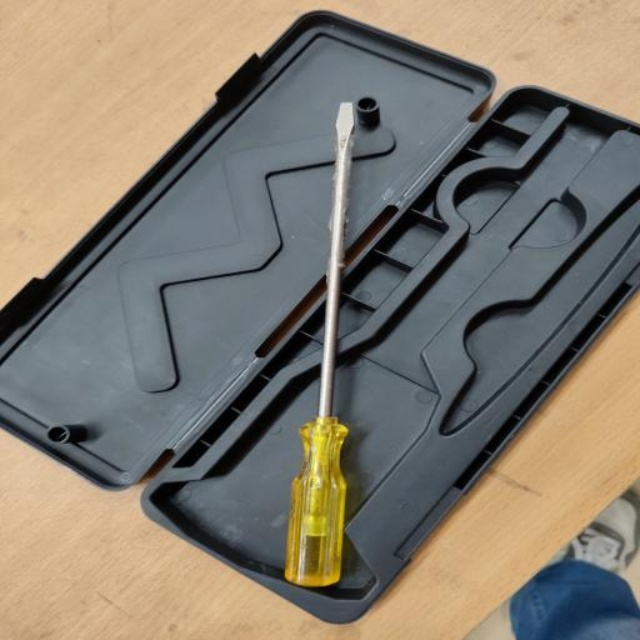screwdriver: (279, 92, 371, 597)
